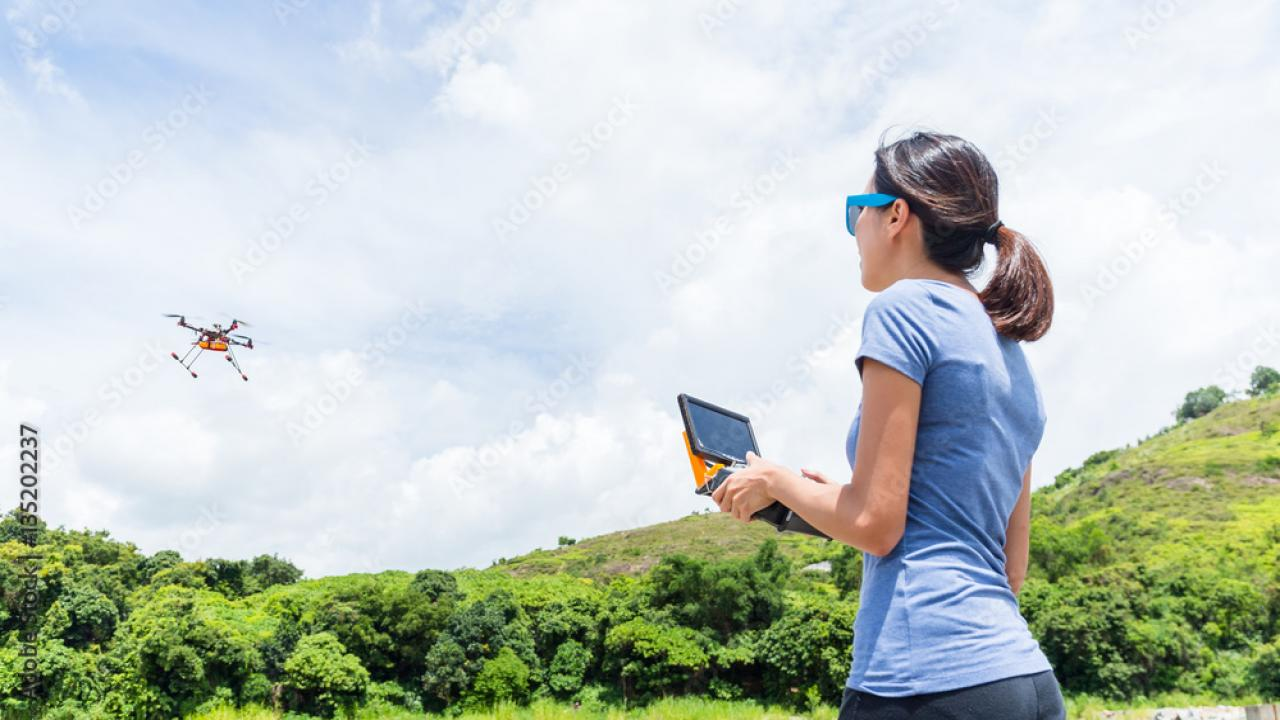Drone: (150, 303, 268, 397)
